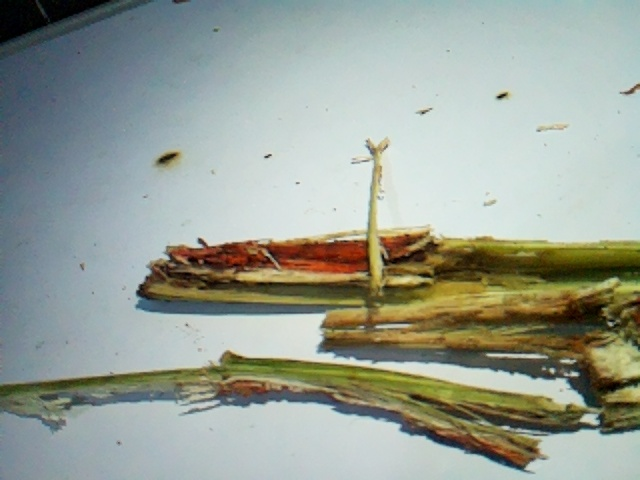Red-Rot: (191, 343, 554, 477), (308, 274, 630, 380), (130, 222, 442, 308)
